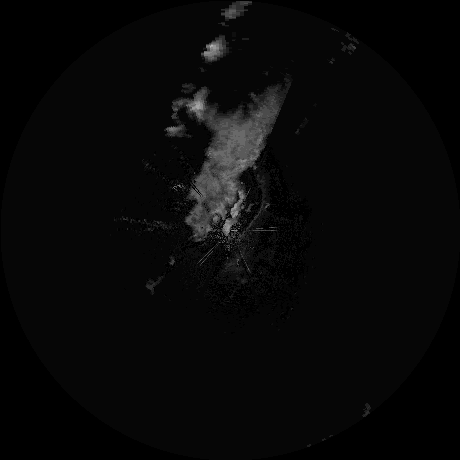frontgust: (251, 167, 265, 227)
